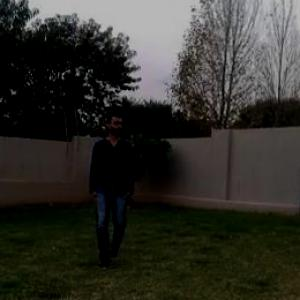follow: (92, 110, 130, 260)
